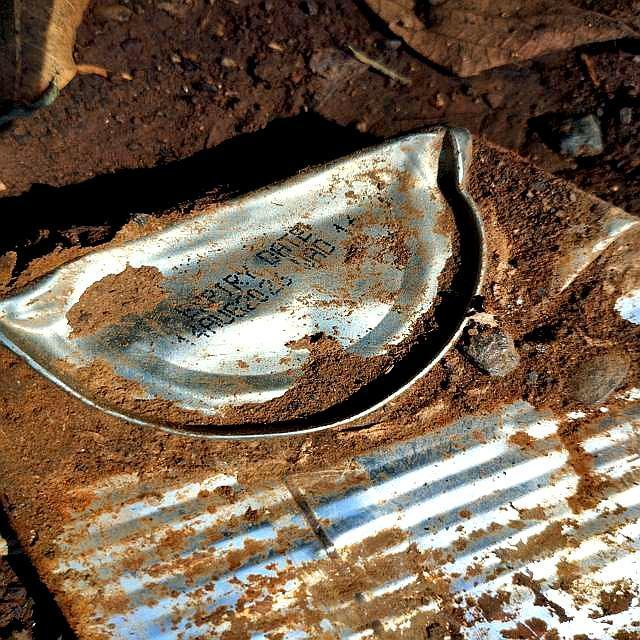Non-biodegradable: (1, 121, 640, 640)
